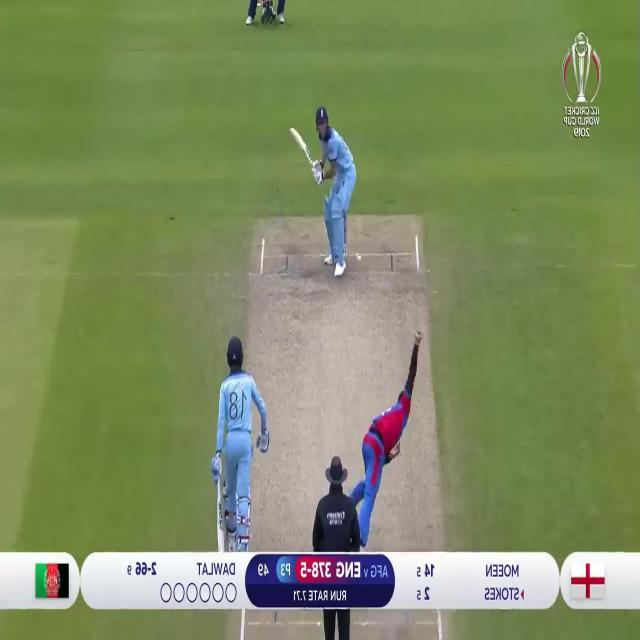ball: (355, 249, 362, 263)
